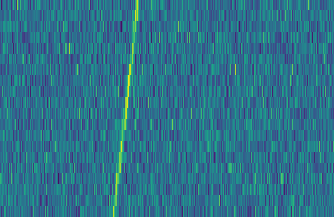signal: (107, 0, 142, 217)
